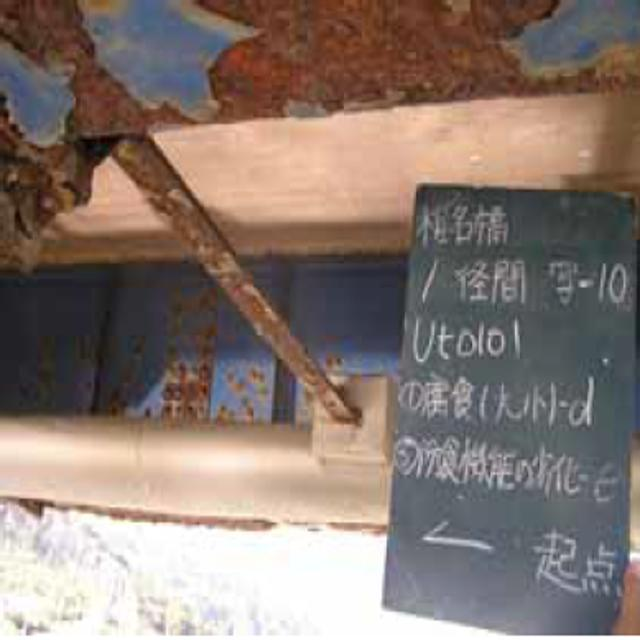corrosion: (21, 138, 356, 432), (5, 5, 640, 117)
